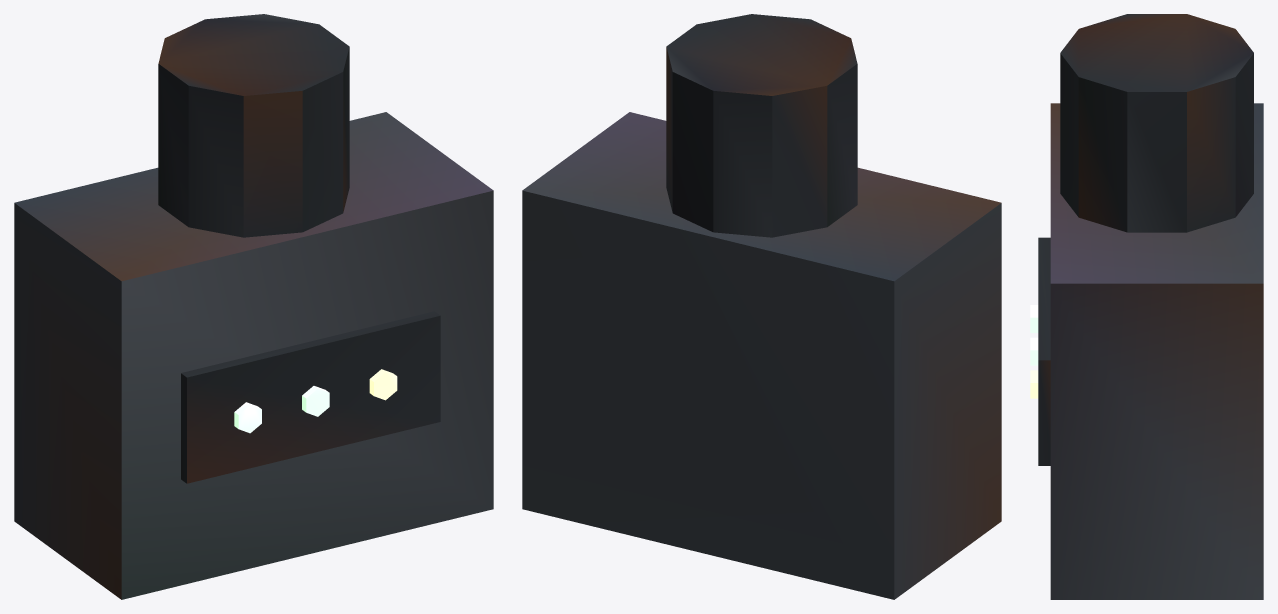
Rendered from generator.glb.
3 views of the same model, side by side, from view 1: azimuth 30°, elevation 25°; view 2: azimuth 150°, elevation 25°; view 3: azimuth 270°, elevation 25° (orthographic).
Visible parts, largest first — view 1: generator; view 2: generator; view 3: generator.
Part boxes in pixels (x1,y1,x2,y2): generator: (14,14,493,599); generator: (522,14,1001,599); generator: (1030,14,1263,599).
Size of the model in its own units: 44 by 52 by 24.1.
